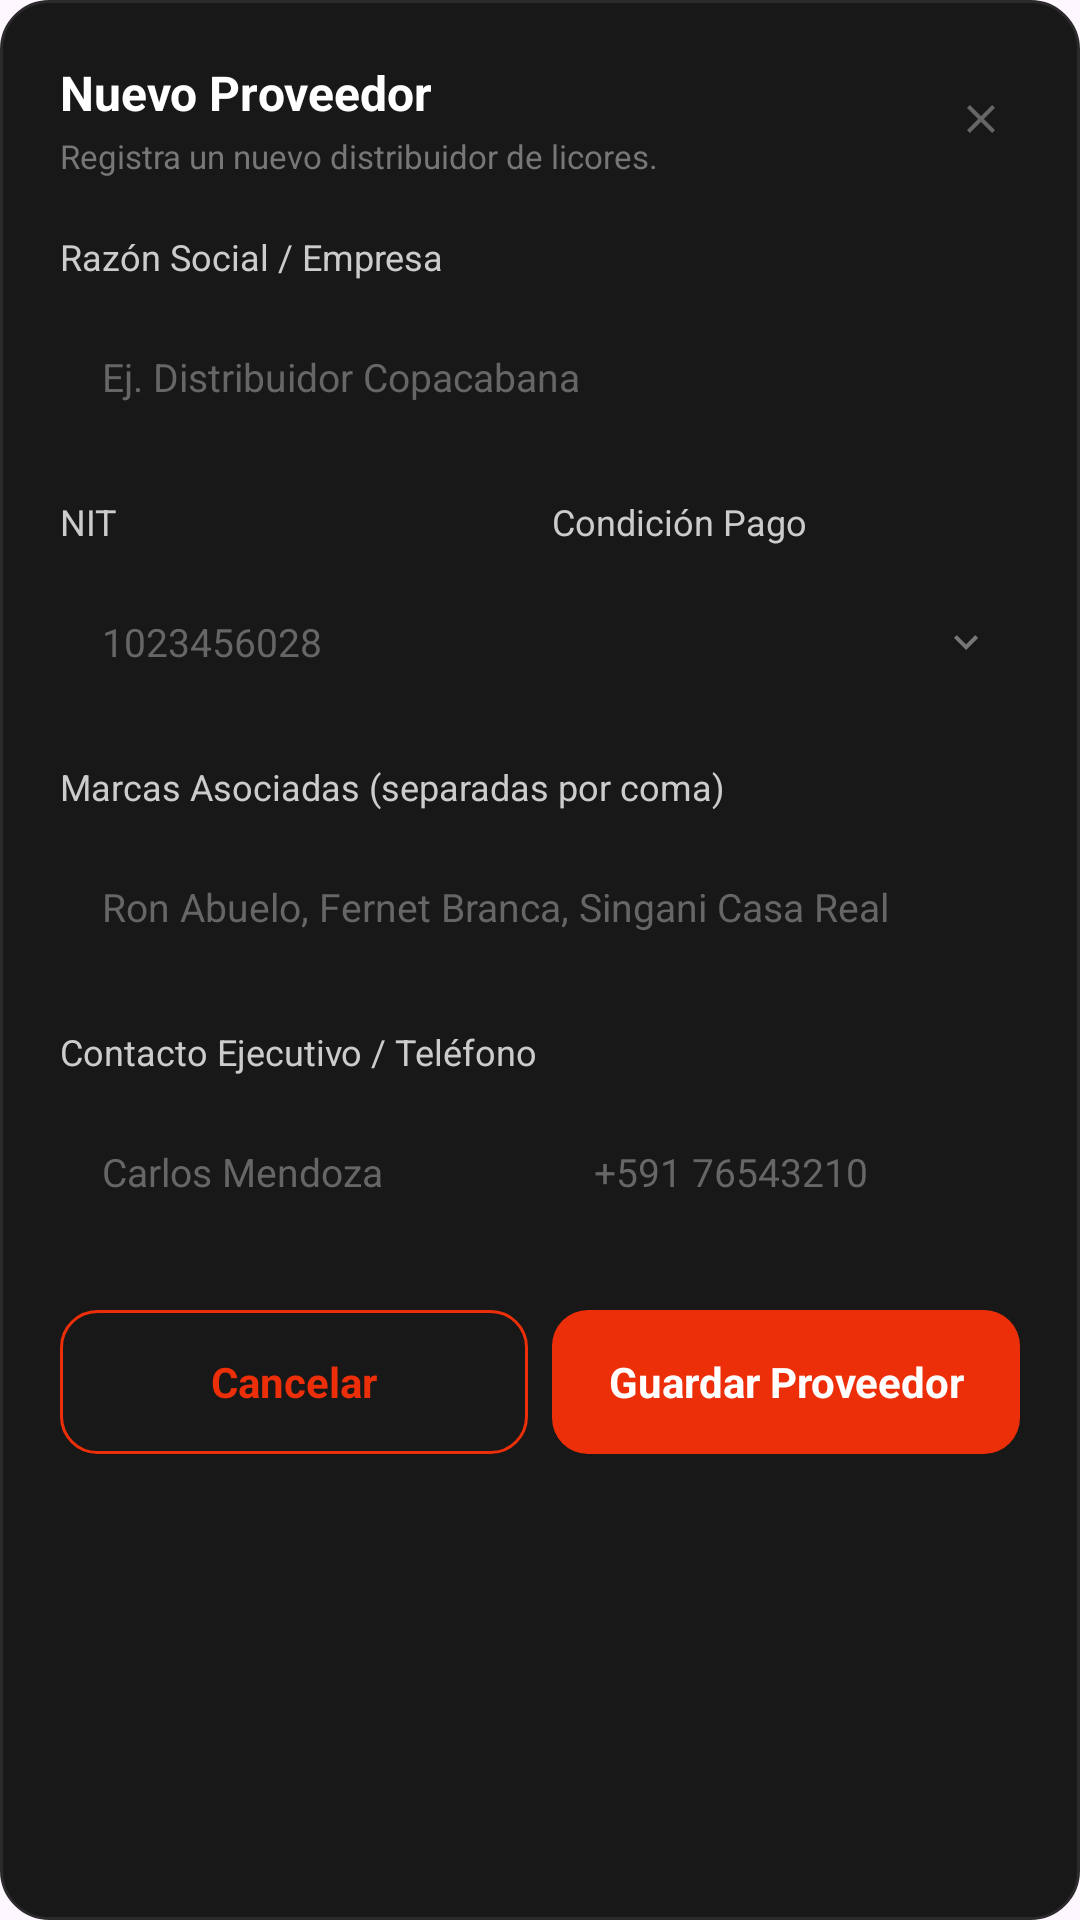

Icon click points for this 1080 × 1920 phone screenshot, format (x=x, y=y):
Cerrar: (x=981, y=119)
chevron down: (x=966, y=642)
